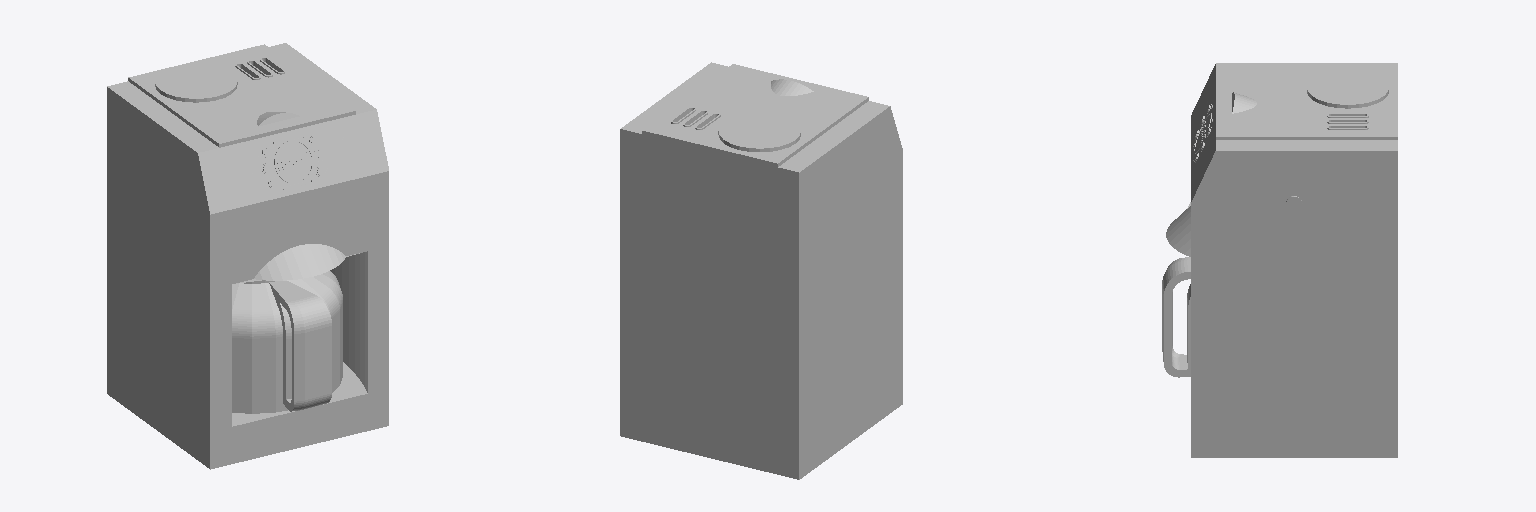
The model's file is coffee.obj.
3 views of the same model, side by side, from view 1: azimuth 30°, elevation 25°; view 2: azimuth 150°, elevation 25°; view 3: azimuth 270°, elevation 25° (orthographic).
Parts seen in each view (by area): view 1: Mesh29 HM_L8101GL1 ___1 Model, Mesh27 Group2 HM_L8101GL1 ___1 Model; view 2: Mesh29 HM_L8101GL1 ___1 Model; view 3: Mesh29 HM_L8101GL1 ___1 Model, Mesh27 Group2 HM_L8101GL1 ___1 Model.
Part boxes in pixels (left/top/right/bottom): Mesh29 HM_L8101GL1 ___1 Model: left=107, top=43, right=388, bottom=469; Mesh27 Group2 HM_L8101GL1 ___1 Model: left=232, top=271, right=342, bottom=413; Mesh29 HM_L8101GL1 ___1 Model: left=620, top=62, right=902, bottom=479; Mesh29 HM_L8101GL1 ___1 Model: left=1166, top=63, right=1397, bottom=457; Mesh27 Group2 HM_L8101GL1 ___1 Model: left=1162, top=257, right=1190, bottom=377.
Size of the model in its own units: 9.92 by 16.69 by 11.2.